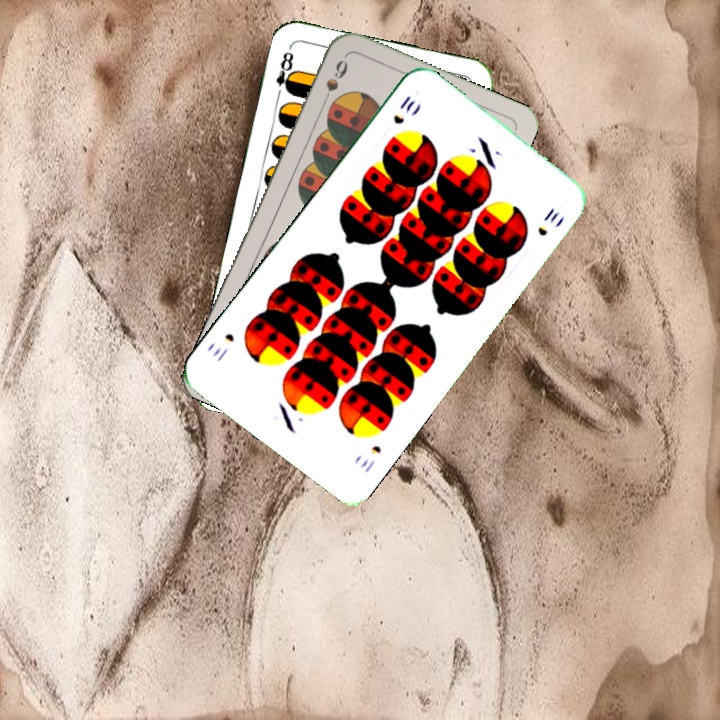E8: (272, 43, 298, 102)
S10: (389, 91, 418, 127), (356, 441, 384, 476)
S9: (317, 56, 351, 109)
